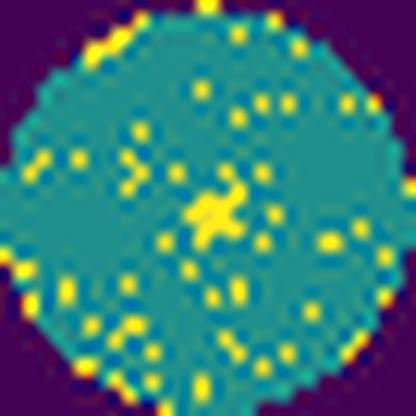Center: (179, 174, 254, 253)
